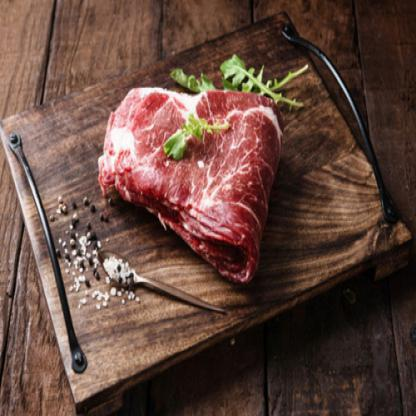beef: (130, 80, 269, 248)
